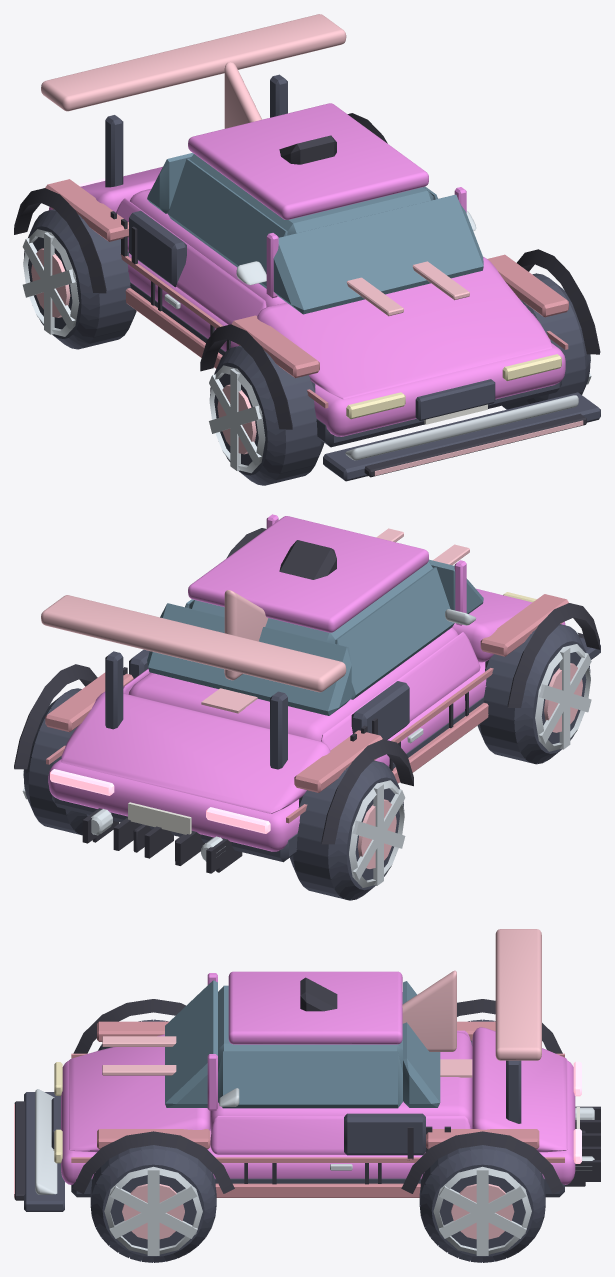
Rendered from slipstream_spear.fbx.
The picture shows the model from 3 angles, top to bottom: view 1: azimuth 30°, elevation 25°; view 2: azimuth 150°, elevation 25°; view 3: azimuth 270°, elevation 25°; orthographic projection. The views are drawn at different scales.
Parts seen in each view (by area): view 1: Body, Glass, Trim2, Accent2, Trim, Accent, Metal, Wheel_FR, Wheel_RR, Accent3, Wheel_FL, Light (+2 smaller); view 2: Body, Glass, Trim, Accent2, Accent, Metal, Trim2, Wheel_RR, Wheel_FR, Wheel_RL, Light3, Metal2 (+2 smaller); view 3: Body, Glass, Trim, Accent2, Metal, Trim2, Accent, Wheel_FL, Wheel_RL, Metal2, Light, Accent3 (+2 smaller).
Part boxes in pixels (<box>): Body: <box>48,103,565,436</box>; Glass: <box>147,153,483,314</box>; Trim2: <box>105,74,600,481</box>; Accent2: <box>41,14,346,128</box>; Trim: <box>14,113,600,477</box>; Accent: <box>45,179,568,408</box>; Metal: <box>22,229,591,473</box>; Wheel_FR: <box>210,345,324,485</box>; Wheel_RR: <box>24,209,136,349</box>; Accent3: <box>236,211,578,460</box>; Wheel_FL: <box>502,273,590,409</box>; Light: <box>346,261,583,475</box>; Body: <box>48,514,565,851</box>; Glass: <box>147,559,483,715</box>; Trim: <box>14,528,600,873</box>; Accent2: <box>41,590,346,692</box>; Accent: <box>45,594,568,823</box>; Metal: <box>22,644,591,887</box>; Trim2: <box>52,637,600,862</box>; Wheel_RR: <box>290,760,404,900</box>; Wheel_FR: <box>477,624,590,764</box>; Wheel_RL: <box>23,688,89,835</box>; Light3: <box>50,769,270,833</box>; Metal2: <box>357,663,582,868</box>; Body: <box>61,971,575,1184</box>; Glass: <box>165,980,440,1108</box>; Trim: <box>14,977,600,1200</box>; Accent2: <box>402,929,541,1060</box>; Metal: <box>104,1107,594,1255</box>; Trim2: <box>24,1060,564,1211</box>; Accent: <box>71,1021,564,1197</box>; Wheel_FL: <box>90,1145,216,1262</box>; Wheel_RL: <box>419,1145,545,1262</box>; Metal2: <box>122,1184,514,1239</box>; Light: <box>14,1036,472,1197</box>; Accent3: <box>35,1088,239,1194</box>.
Bounding box in the file's own units: 3.11 × 2.29 × 5.37.
